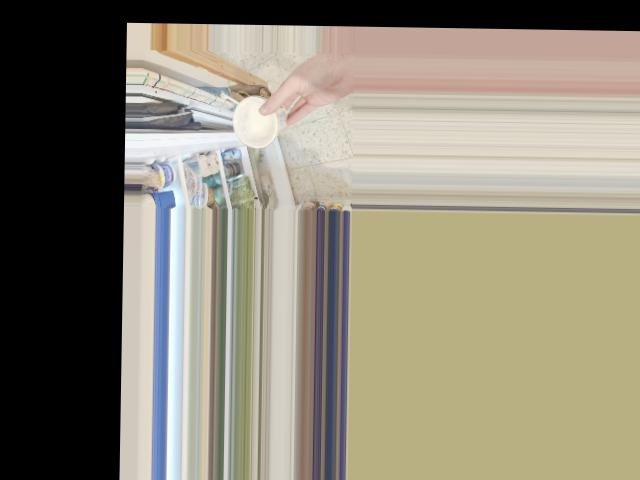cotage: (236, 94, 286, 134)
